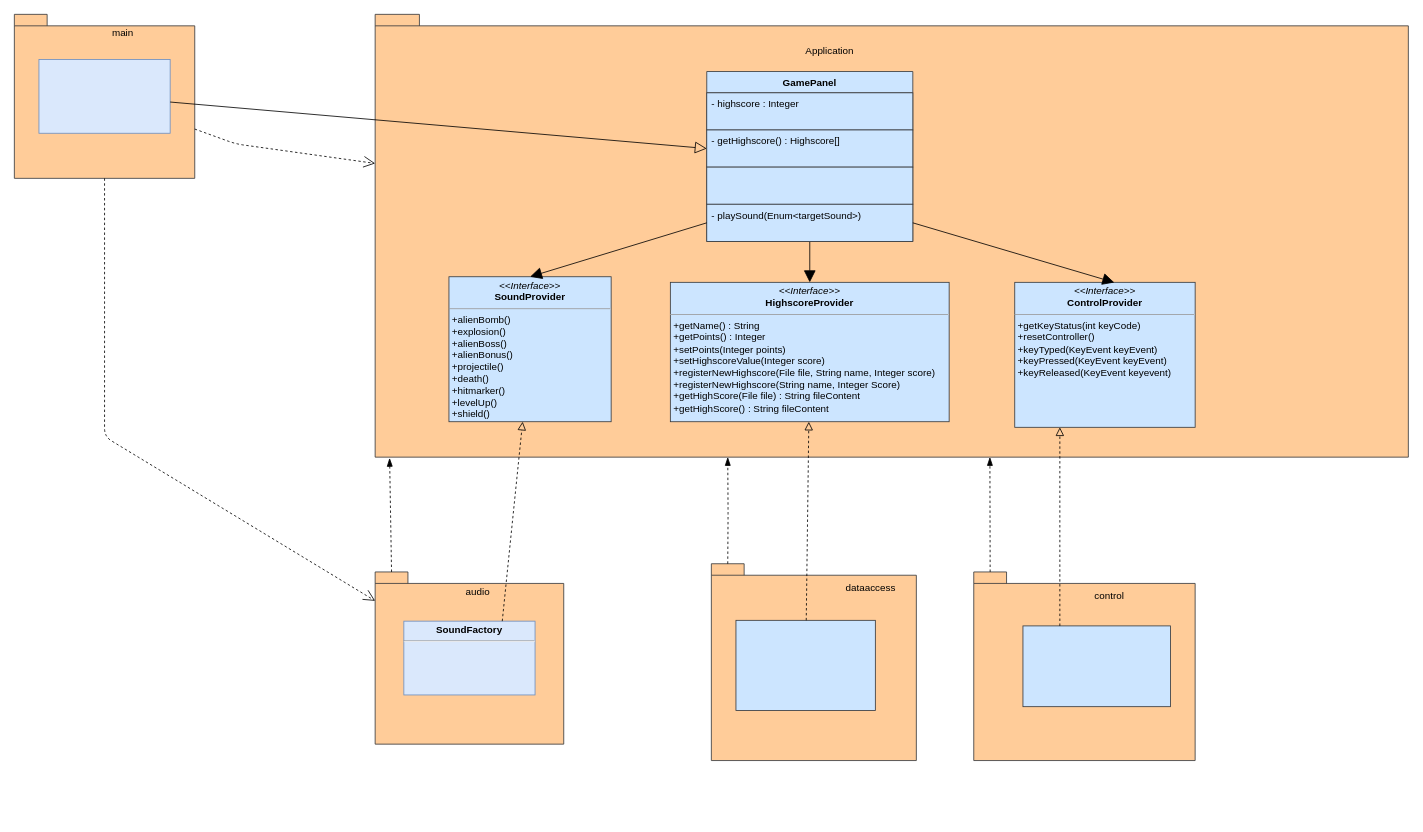
The diagram is 1423 pixels wide and 832 high, and some of its shapes have lost their labels. Here are the shapes that lost their labels. From the top down, the centre of each, then its label:
At (x=104, y=96): "Game +main(String args) +game()".
At (x=809, y=185): "- storeHighscore(highscore)".
At (x=805, y=665): "HigscoreStore".
At (x=1096, y=666): "ControlProvider".
